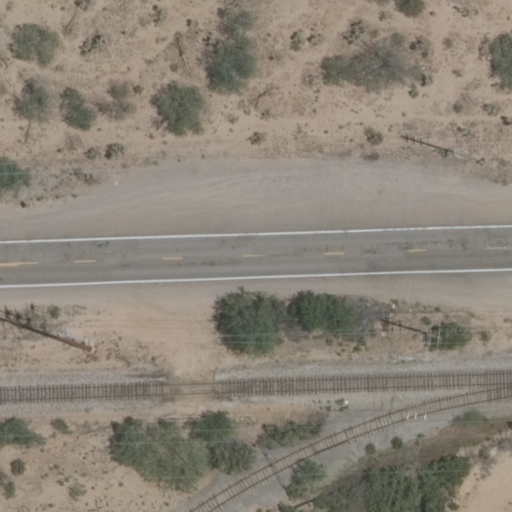DT: (7, 310, 97, 353), (374, 313, 436, 335), (400, 140, 458, 156)
